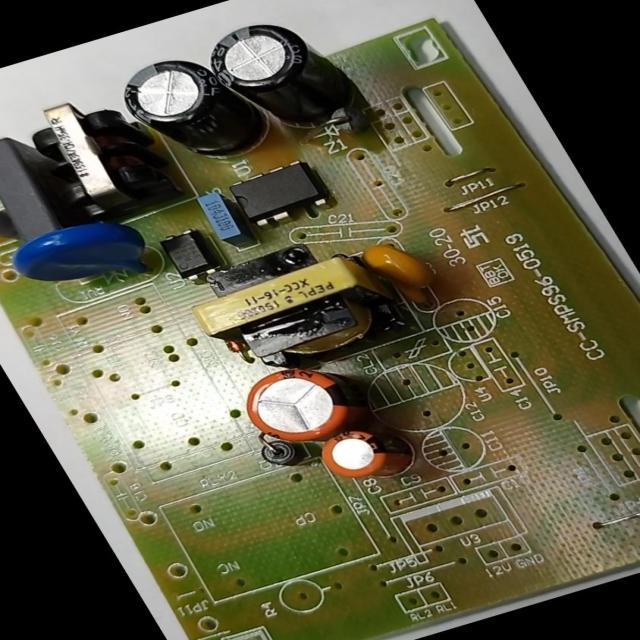Cap1: (226, 351, 380, 453)
Cap2: (309, 418, 420, 492)
Cap3: (103, 46, 257, 172)
Cap4: (191, 6, 363, 140)
MOSFET: (220, 157, 334, 231)
Mov: (0, 208, 162, 306)
Resistor: (0, 196, 22, 256)
Transformer: (169, 231, 403, 387), (10, 89, 170, 219)
